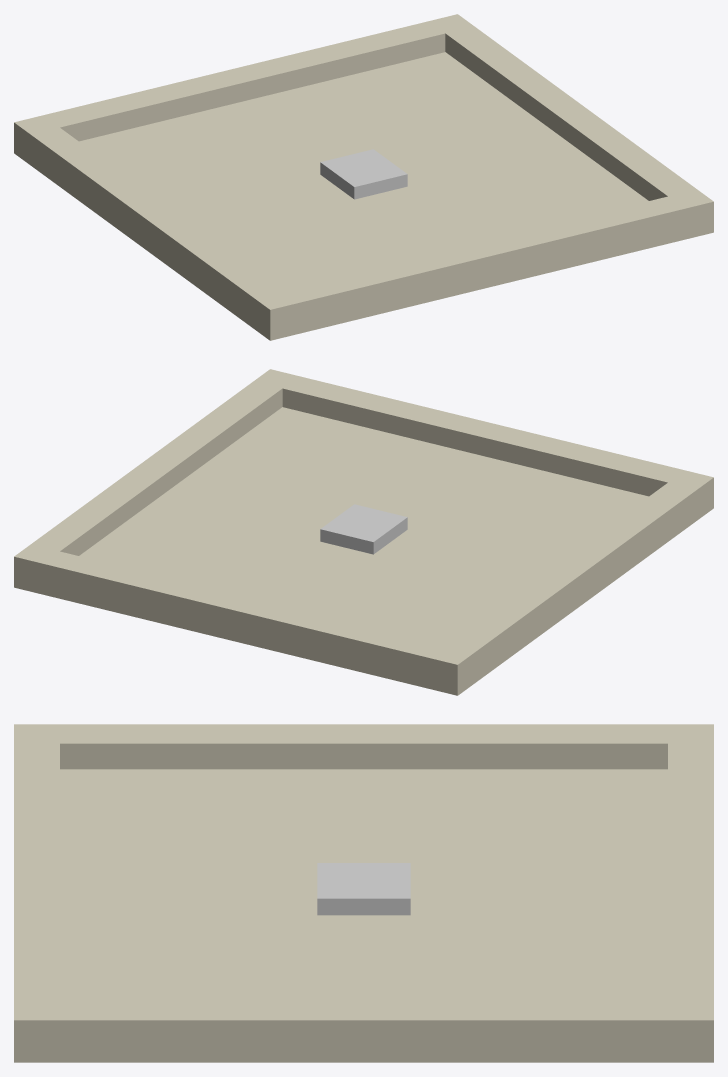
File: Roof 53.FBX
The picture shows the model from 3 angles, top to bottom: view 1: azimuth 30°, elevation 25°; view 2: azimuth 150°, elevation 25°; view 3: azimuth 270°, elevation 25°; orthographic projection. The views are drawn at different scales.
Visible parts, largest first — view 1: Group199, Group200; view 2: Group199, Group200; view 3: Group199, Group200.
Part boxes in pixels (x1,y1,x2,y2): Group199: (14, 14, 713, 340); Group200: (320, 149, 407, 199); Group199: (14, 369, 713, 695); Group200: (320, 504, 407, 554); Group199: (14, 724, 713, 1062); Group200: (317, 863, 410, 915).
Bounding box in the file's own units: 29.53 × 1.97 × 29.53.
